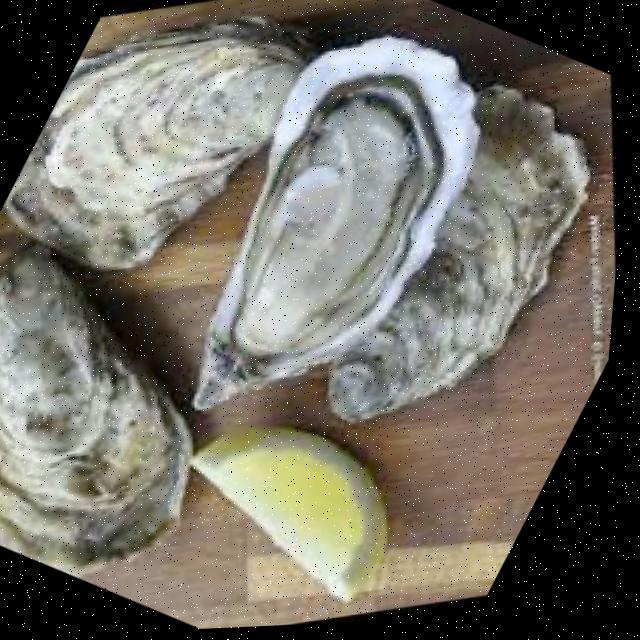Oyster-Indeterminate: (247, 86, 590, 424), (3, 32, 307, 275), (0, 241, 193, 577)
Oyster-Open: (195, 41, 477, 409)
